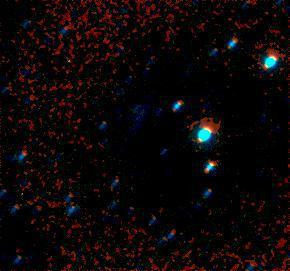star: (33, 20, 63, 50)
